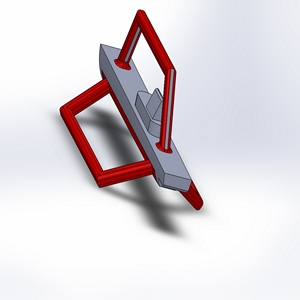submarine: (38, 3, 233, 225)
